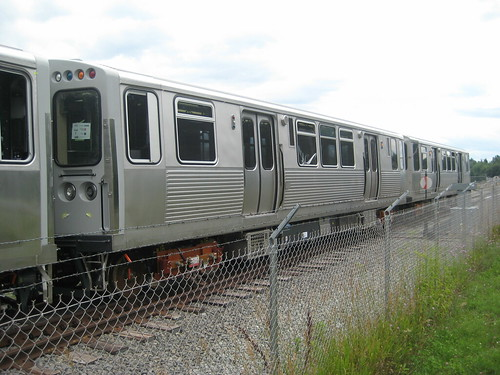sky: (1, 1, 495, 123)
train: (1, 49, 491, 286)
